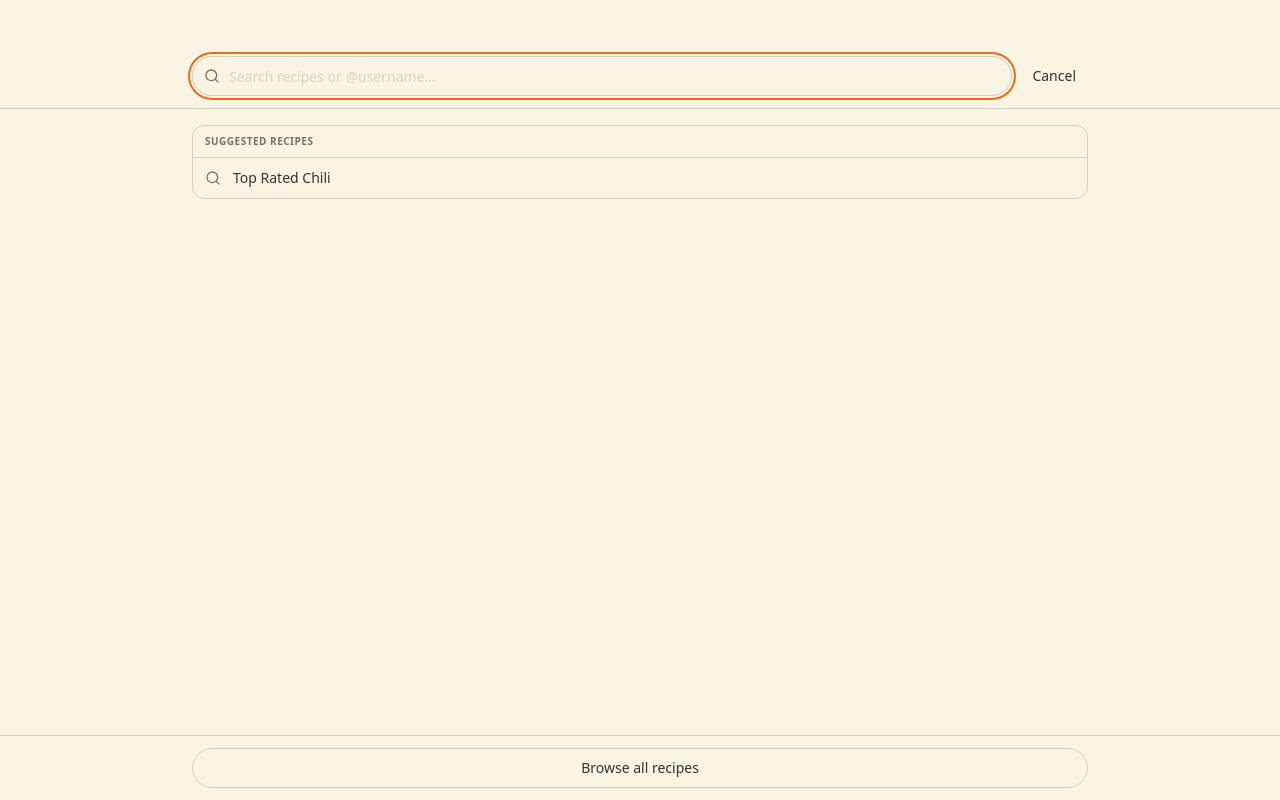
HomeReturningPage › opens full search overlay and preserves @username results
The width and height of the screenshot is (1280, 800).
Earlier steps of the test are not shown.
Type "@jordan" into the field with placeholder "Search recipes or @username…" at (602, 76), box [192,56,1012,96]
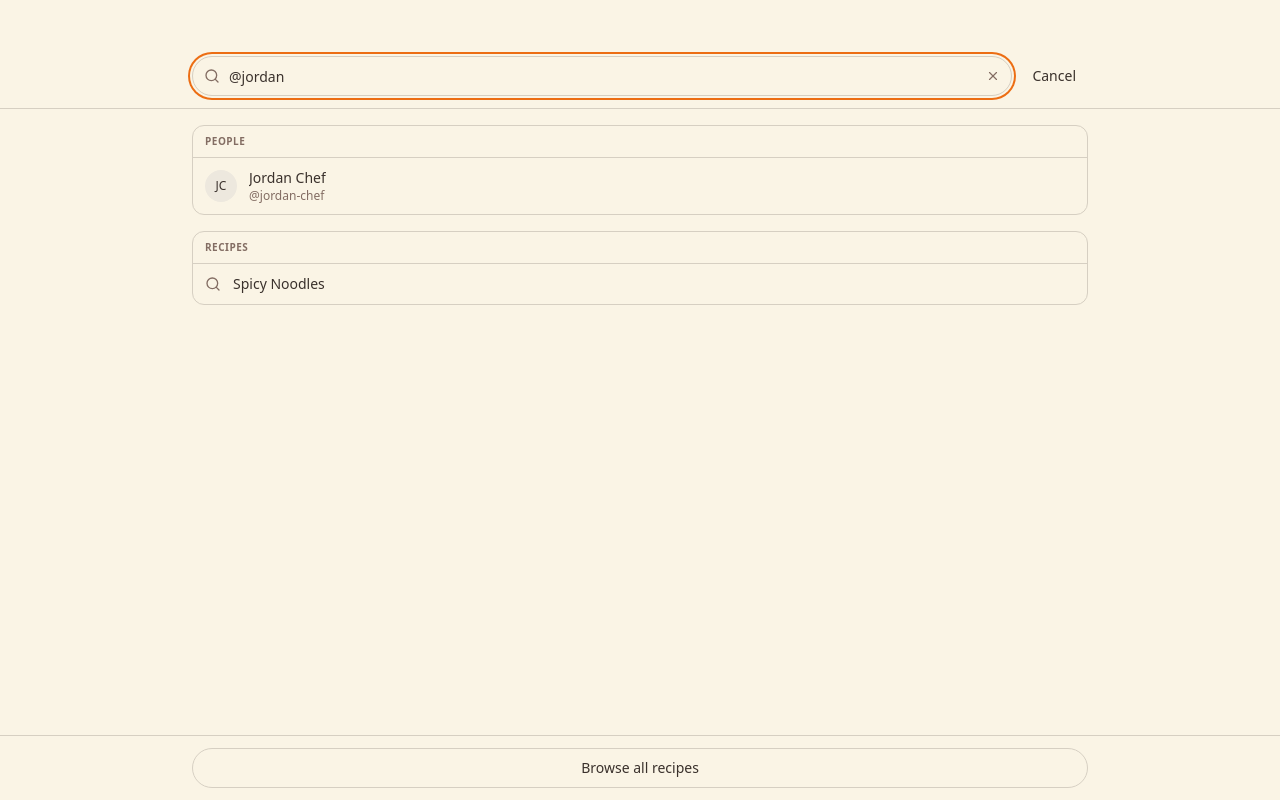
Expected: the link "Browse all recipes" is shown, [192,748,1088,788]
Now the text "@jordan-chef" is shown, box [249,188,326,204]
Now the text "Spicy Noodles" is shown, box [233,274,325,294]
